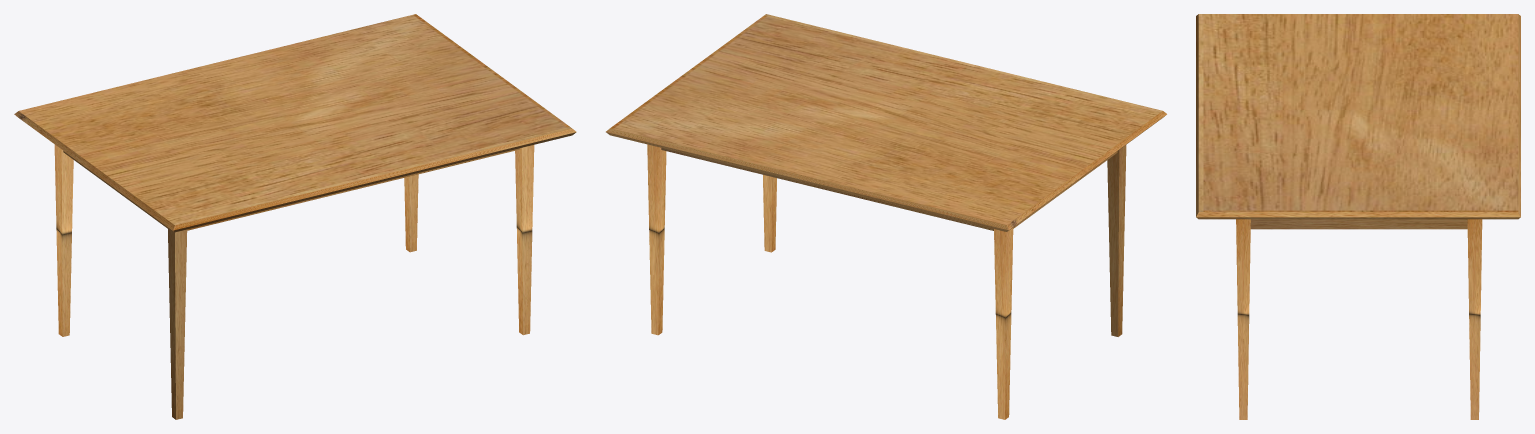
Rendered from simple_table.fbx.
3 views of the same model, side by side, from view 1: azimuth 30°, elevation 25°; view 2: azimuth 150°, elevation 25°; view 3: azimuth 270°, elevation 25° (orthographic). The views are drawn at different scales.
Parts seen in each view (by area): view 1: table; view 2: table; view 3: table.
Boxes of the visible parts, left/top/right/bottom form: table: left=14, top=14, right=576, bottom=419; table: left=606, top=14, right=1166, bottom=419; table: left=1196, top=14, right=1520, bottom=419.
Bounding box in the file's own units: 399 × 202 × 272.
1 material, 1 textured.
